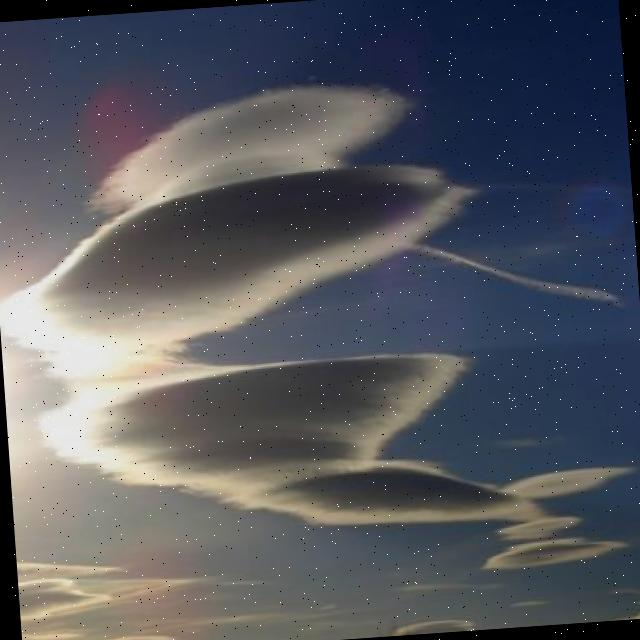Ac: (1, 39, 640, 616)
